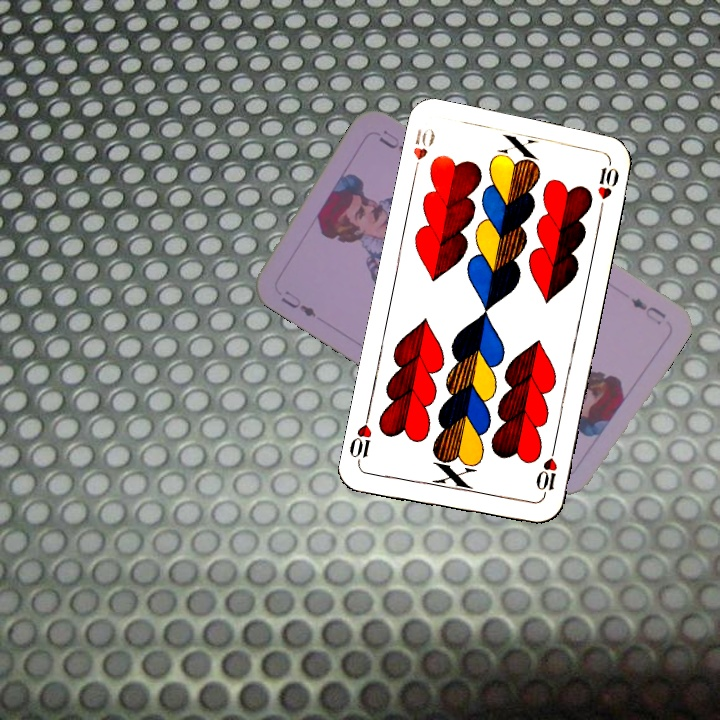EU: (626, 294, 669, 328), (277, 286, 319, 320)
H10: (409, 123, 438, 180), (532, 443, 560, 502)
